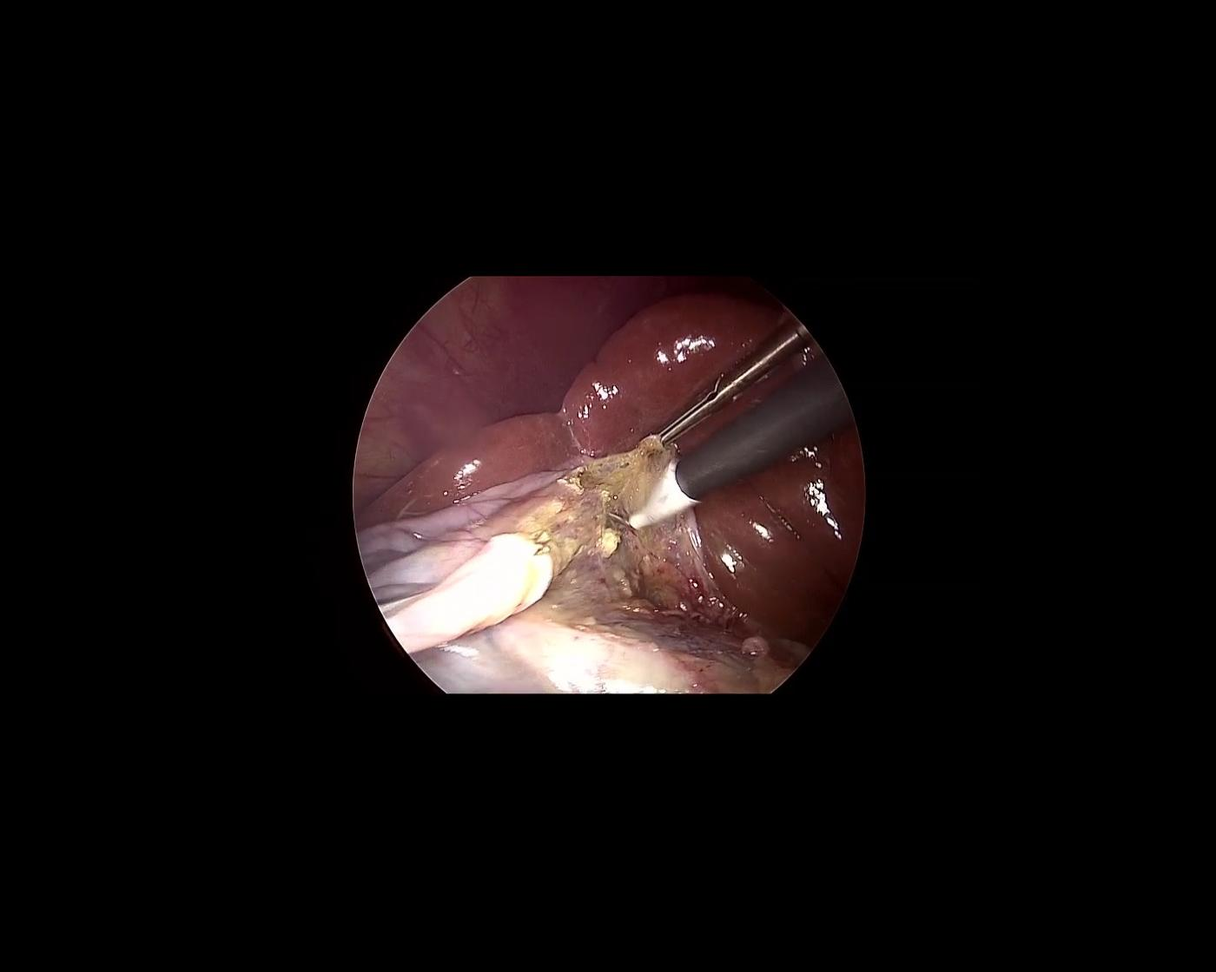Forceps: (636, 314, 817, 456)
Gallbladder: (351, 446, 628, 661)
Liver: (352, 239, 823, 628), (676, 412, 939, 670)
